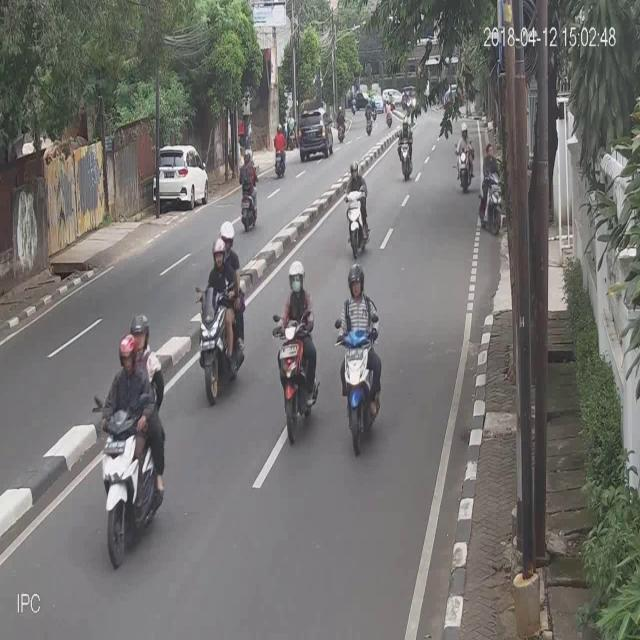bus: (90, 306, 166, 570), (193, 218, 247, 406), (334, 258, 384, 460), (273, 258, 321, 447), (476, 137, 505, 241), (342, 158, 370, 262), (237, 145, 261, 229), (453, 114, 477, 194), (396, 112, 414, 185), (271, 114, 288, 180)
motorcycle: (151, 133, 209, 211), (297, 102, 332, 161)
